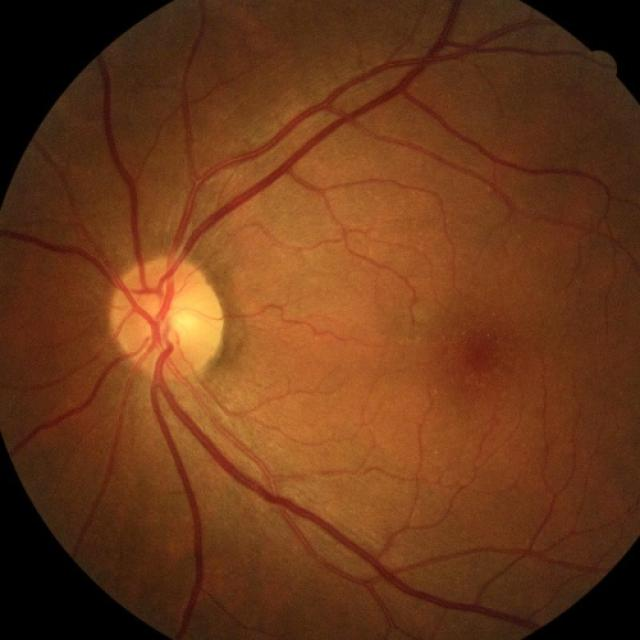OC: (166, 308, 194, 338)
OD: (109, 259, 225, 380)
